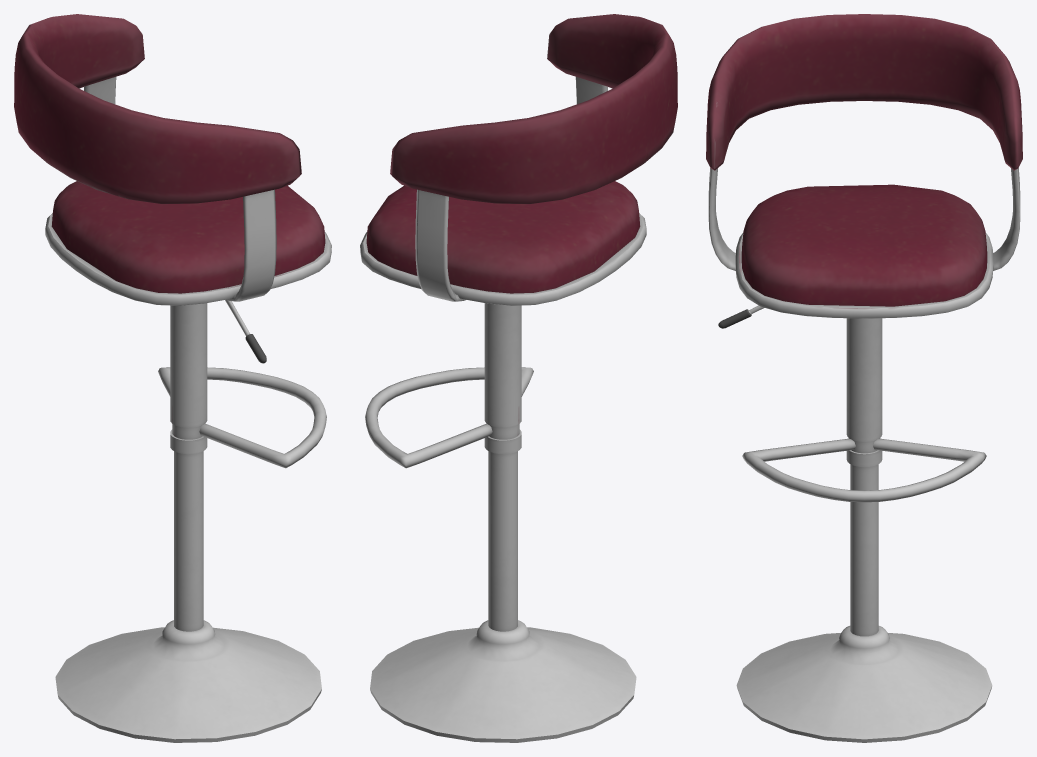
The model's file is SM_Chair2.fbx.
3 views of the same model, side by side, from view 1: azimuth 30°, elevation 25°; view 2: azimuth 150°, elevation 25°; view 3: azimuth 270°, elevation 25° (orthographic). The views are drawn at different scales.
Visible parts, largest first — view 1: SM_Chair2_LOD0; view 2: SM_Chair2_LOD0; view 3: SM_Chair2_LOD0.
Part boxes in pixels (x1,y1,x2,y2): SM_Chair2_LOD0: (14, 14, 331, 742); SM_Chair2_LOD0: (360, 14, 677, 742); SM_Chair2_LOD0: (706, 14, 1022, 742).
Bounding box in the file's own units: 55.97 × 60.14 × 129.
Materials: 1 (1 with a texture image).
